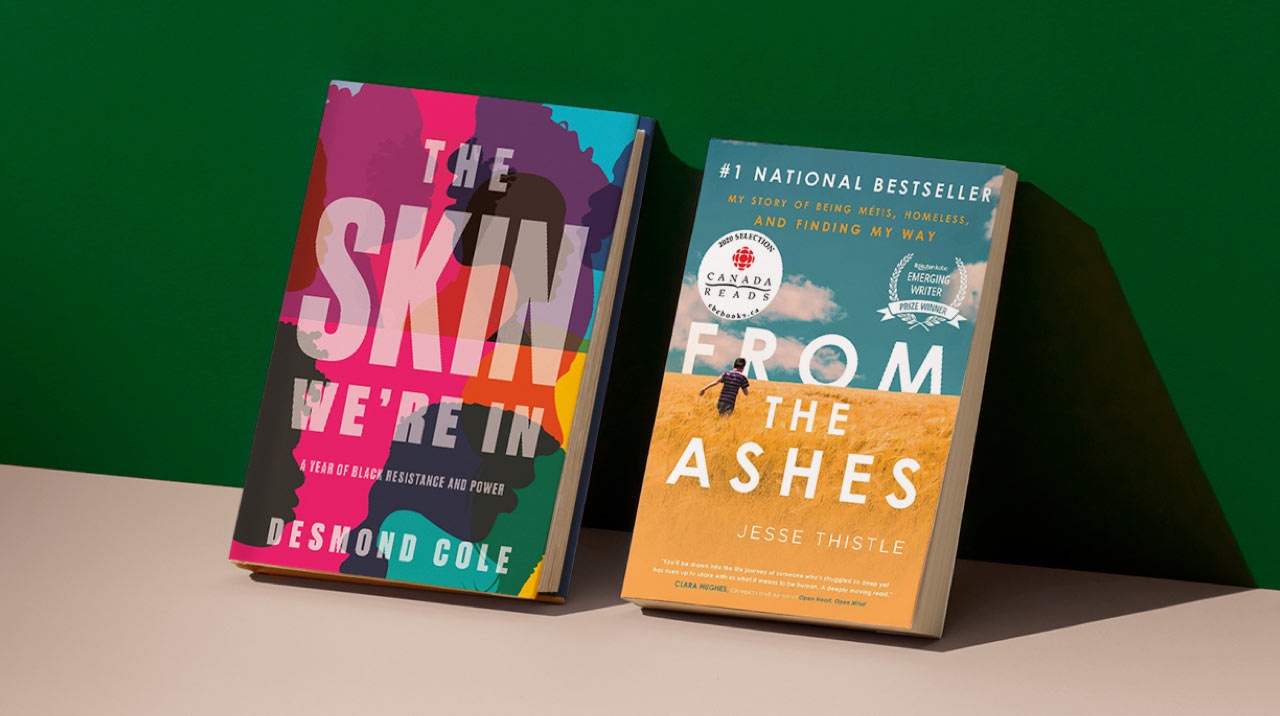book: (223, 74, 657, 612), (622, 132, 1025, 644)
